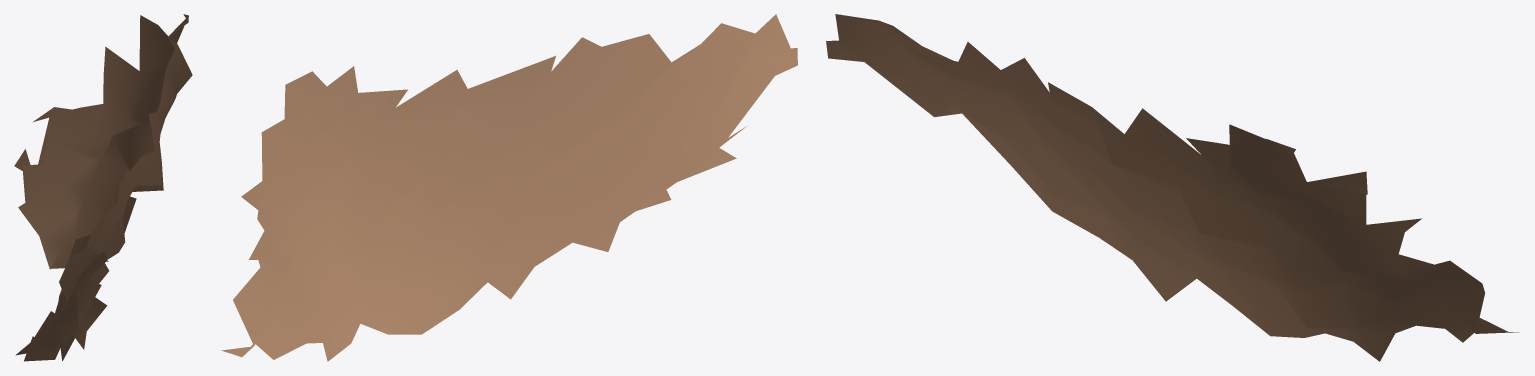
Rendered from pottery_fragment_080.obj.
3 views of the same model, side by side, from view 1: azimuth 30°, elevation 25°; view 2: azimuth 150°, elevation 25°; view 3: azimuth 270°, elevation 25° (orthographic). The views are drawn at different scales.
Size of the model in its own units: 11.33 by 8.27 by 20.
